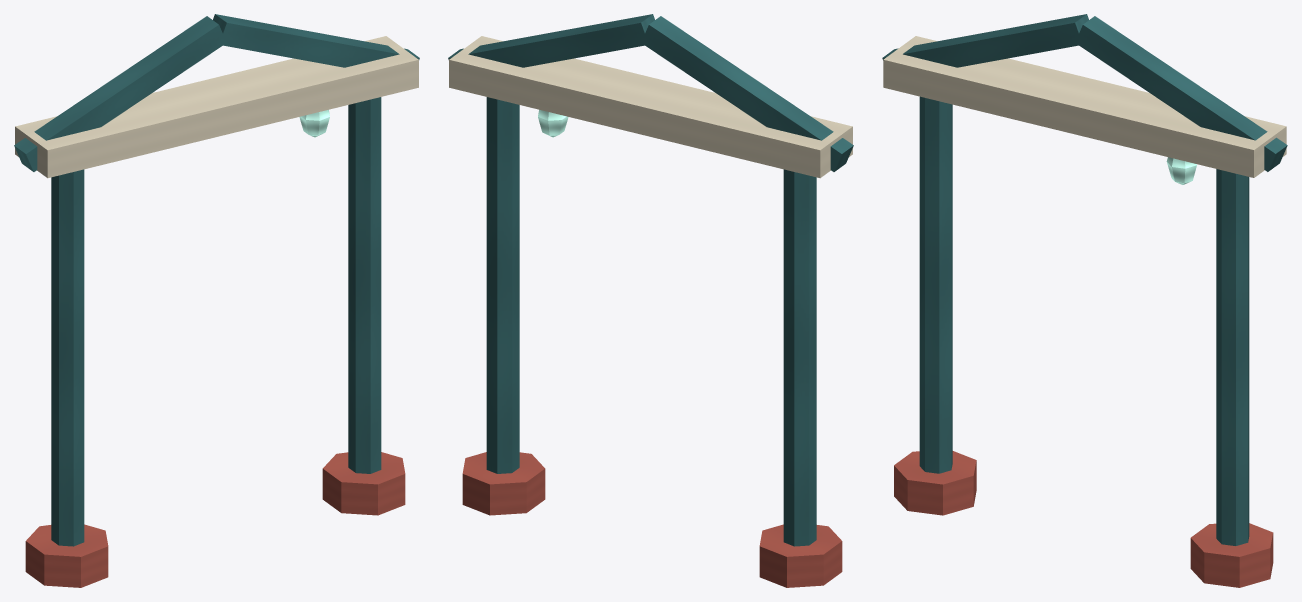
The model's file is atlas100-s031-a09.lod1.glb.
3 views of the same model, side by side, from view 1: azimuth 30°, elevation 25°; view 2: azimuth 150°, elevation 25°; view 3: azimuth 330°, elevation 25° (orthographic).
Parts seen in each view (by area): view 1: atlas100-s031-a09:part-004, atlas100-s031-a09:part-000, atlas100-s031-a09:part-002, atlas100-s031-a09:part-005, atlas100-s031-a09:part-006, atlas100-s031-a09:part-003, atlas100-s031-a09:part-001, atlas100-s031-a09:part-008; view 2: atlas100-s031-a09:part-004, atlas100-s031-a09:part-000, atlas100-s031-a09:part-002, atlas100-s031-a09:part-005, atlas100-s031-a09:part-006, atlas100-s031-a09:part-003, atlas100-s031-a09:part-001, atlas100-s031-a09:part-008; view 3: atlas100-s031-a09:part-004, atlas100-s031-a09:part-000, atlas100-s031-a09:part-002, atlas100-s031-a09:part-006, atlas100-s031-a09:part-005, atlas100-s031-a09:part-003, atlas100-s031-a09:part-001, atlas100-s031-a09:part-008.
Boxes of the visible parts, x1,y1,x2,y2 form: atlas100-s031-a09:part-004: [15, 36, 418, 178]; atlas100-s031-a09:part-000: [51, 169, 84, 546]; atlas100-s031-a09:part-002: [348, 97, 381, 473]; atlas100-s031-a09:part-005: [14, 16, 225, 171]; atlas100-s031-a09:part-006: [213, 14, 419, 67]; atlas100-s031-a09:part-003: [322, 452, 405, 515]; atlas100-s031-a09:part-001: [25, 524, 108, 587]; atlas100-s031-a09:part-008: [299, 109, 329, 137]; atlas100-s031-a09:part-004: [449, 36, 852, 178]; atlas100-s031-a09:part-000: [783, 169, 816, 546]; atlas100-s031-a09:part-002: [486, 97, 519, 473]; atlas100-s031-a09:part-005: [642, 16, 853, 171]; atlas100-s031-a09:part-006: [448, 14, 654, 67]; atlas100-s031-a09:part-003: [462, 452, 545, 515]; atlas100-s031-a09:part-001: [759, 524, 842, 587]; atlas100-s031-a09:part-008: [538, 109, 568, 137]; atlas100-s031-a09:part-004: [883, 36, 1286, 177]; atlas100-s031-a09:part-000: [919, 96, 952, 473]; atlas100-s031-a09:part-002: [1216, 169, 1249, 545]; atlas100-s031-a09:part-006: [1075, 16, 1287, 171]; atlas100-s031-a09:part-005: [882, 14, 1088, 67]; atlas100-s031-a09:part-003: [1190, 523, 1273, 587]; atlas100-s031-a09:part-001: [894, 451, 976, 515]; atlas100-s031-a09:part-008: [1166, 157, 1196, 184].
Bounding box in the file's own units: 2.65 × 3.31 × 0.4875.
4 materials, 4 textured.
